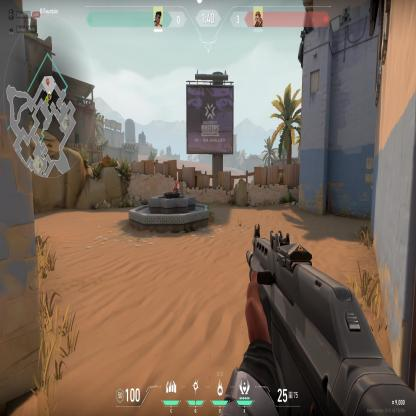enemy: (173, 178, 179, 193)
